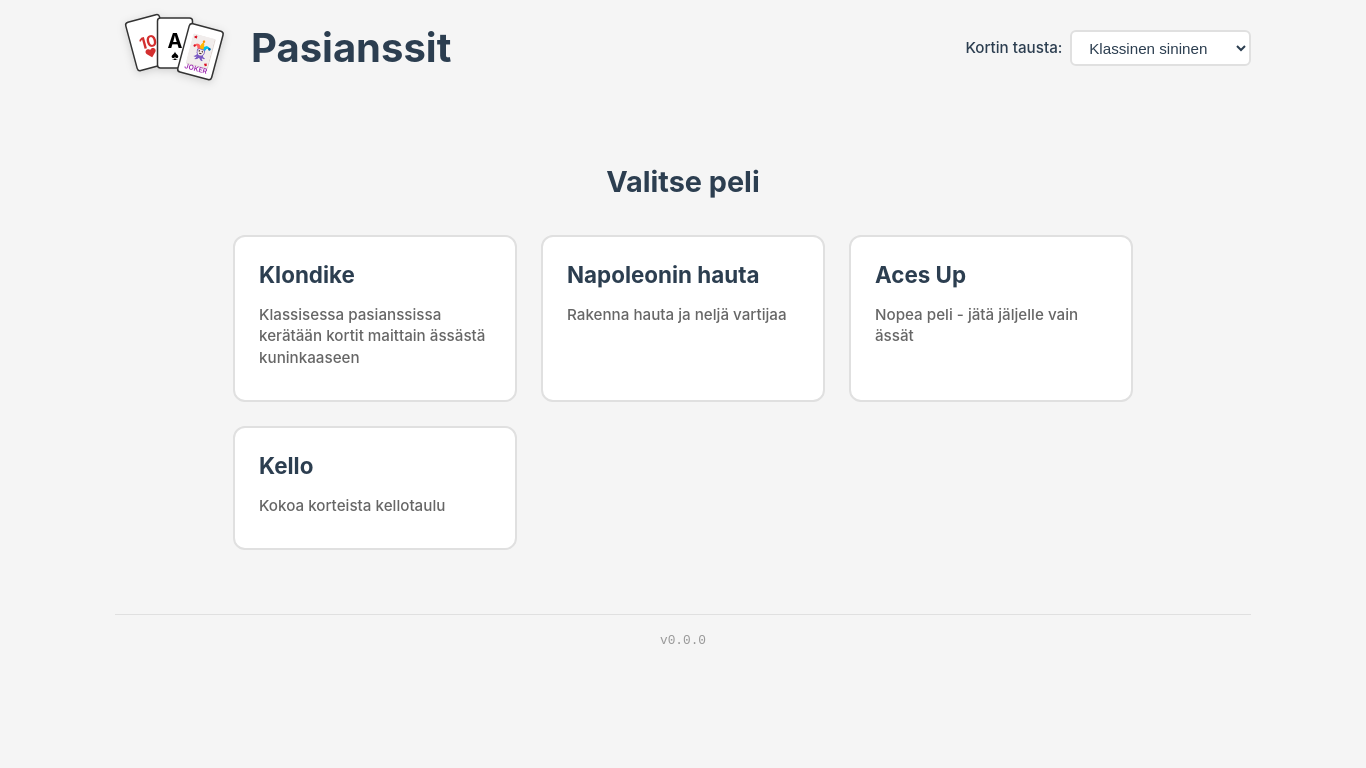
Napoleon callback props › returns to the game selector after leaving Napoleon
The width and height of the screenshot is (1366, 768).
What coordinates should you click on to do the following:
click the button "Napoleonin hauta Rakenna hauta ja neljä vartijaa"
I would click on:
 (683, 318)
Its box is [541,235,825,402].
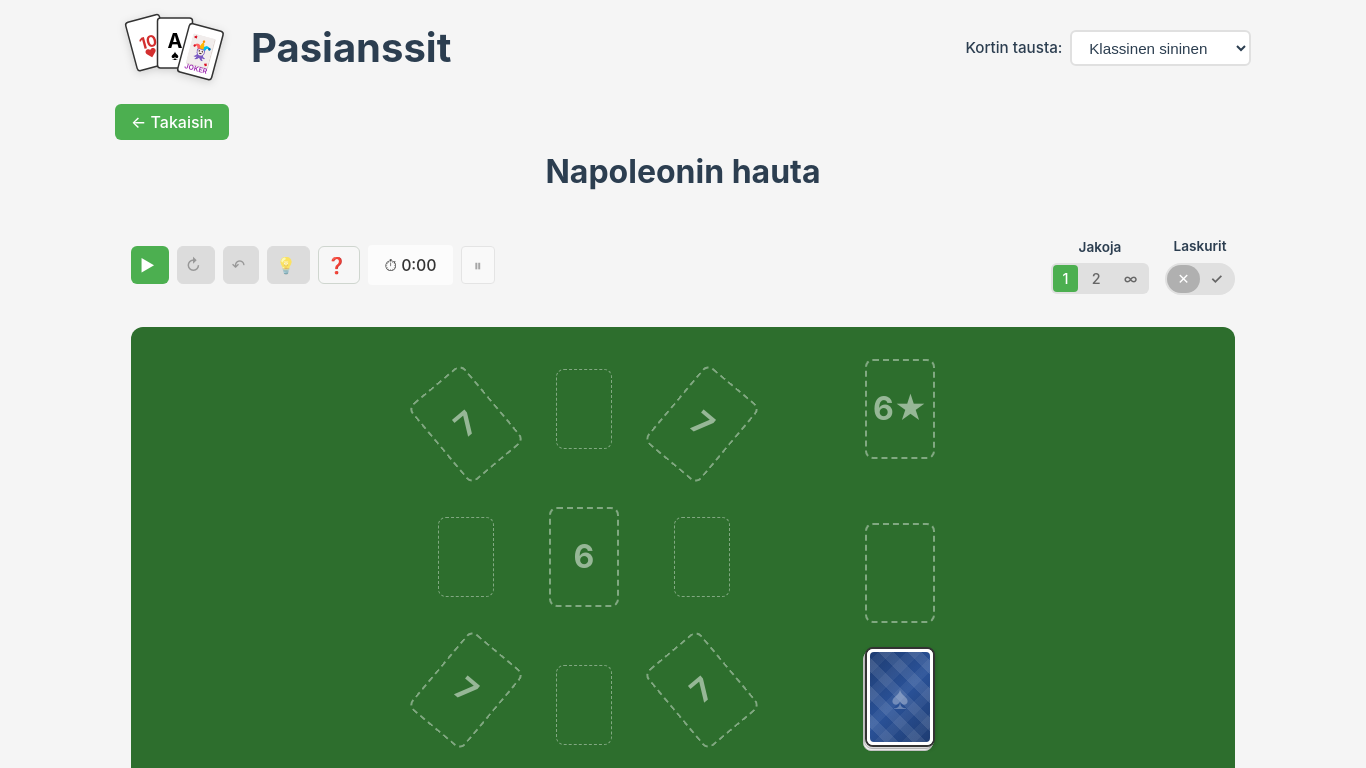
Now the button "← Takaisin" is shown
What coordinates should you click on to do the following:
click the button "← Takaisin"
I would click on:
 (172, 122)
Its box is [115,104,229,140].
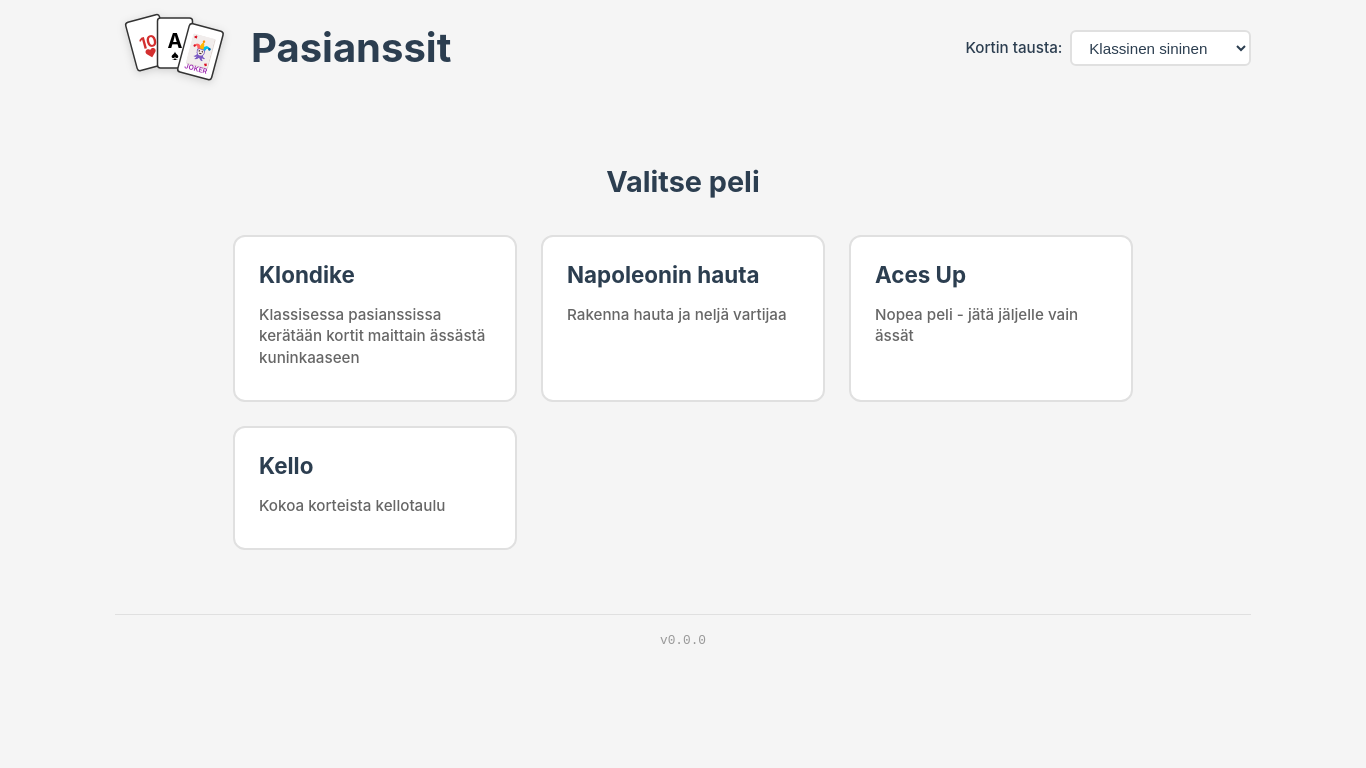
Now the button "Napoleonin hauta Rakenna hauta ja neljä vartijaa" is shown, box [541,235,825,402]
